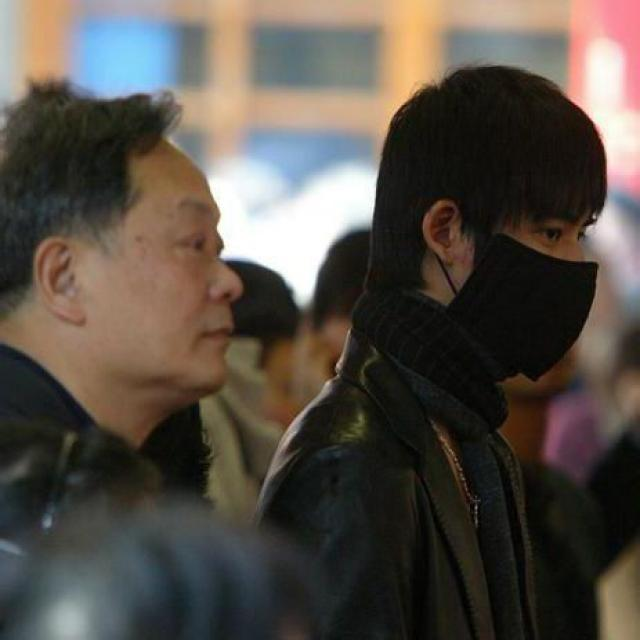mask: (462, 156, 597, 372)
nomask: (86, 141, 240, 390)
